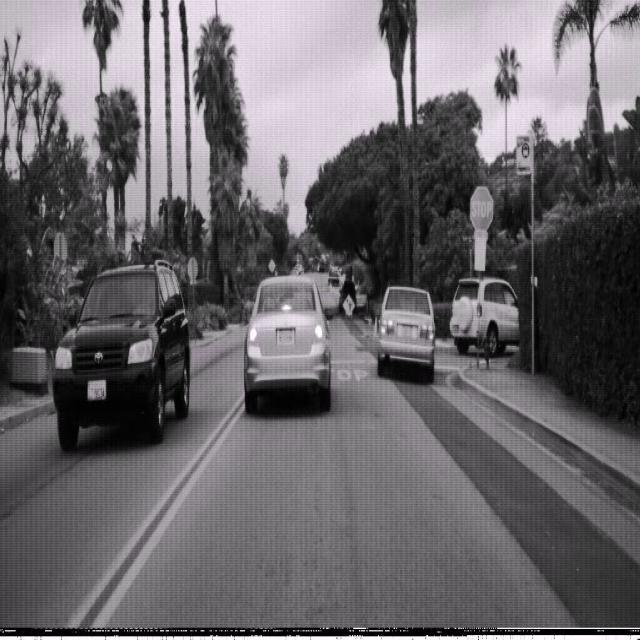stop: (469, 185, 493, 232)
